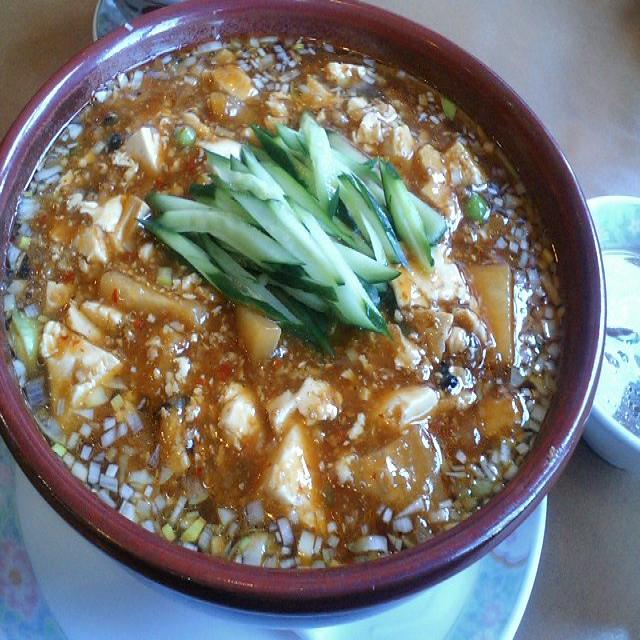豆腐料理: (0, 0, 606, 640)
